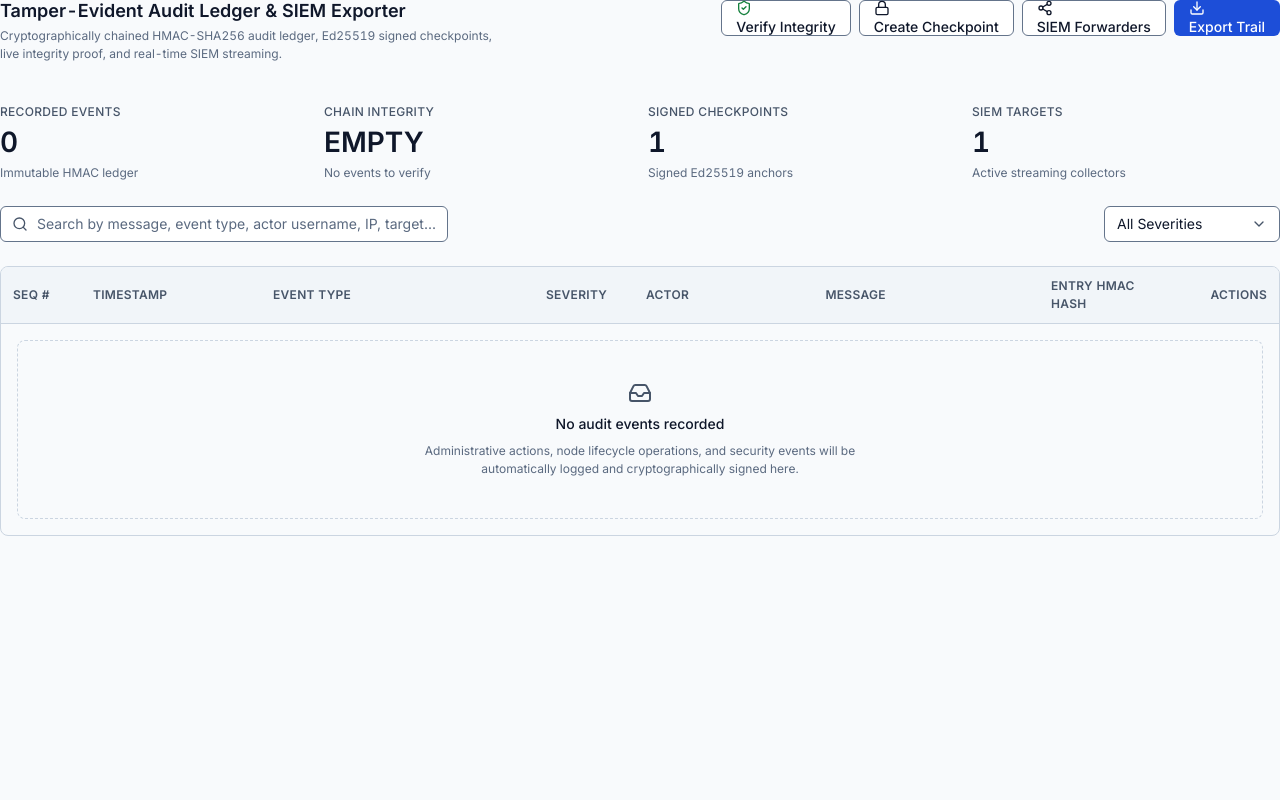
it: WP-408: AuditRoute (Tamper-Evident HMAC Ledger & SIEM Exporter UI) › reports an empty ledger without claiming a verification pass
Expected: the text "EMPTY" is shown, x1=324 y1=124 x2=424 y2=160
Click the button with test id "verify-chain-button" at (786, 18), box x1=721 y1=0 x2=851 y2=36
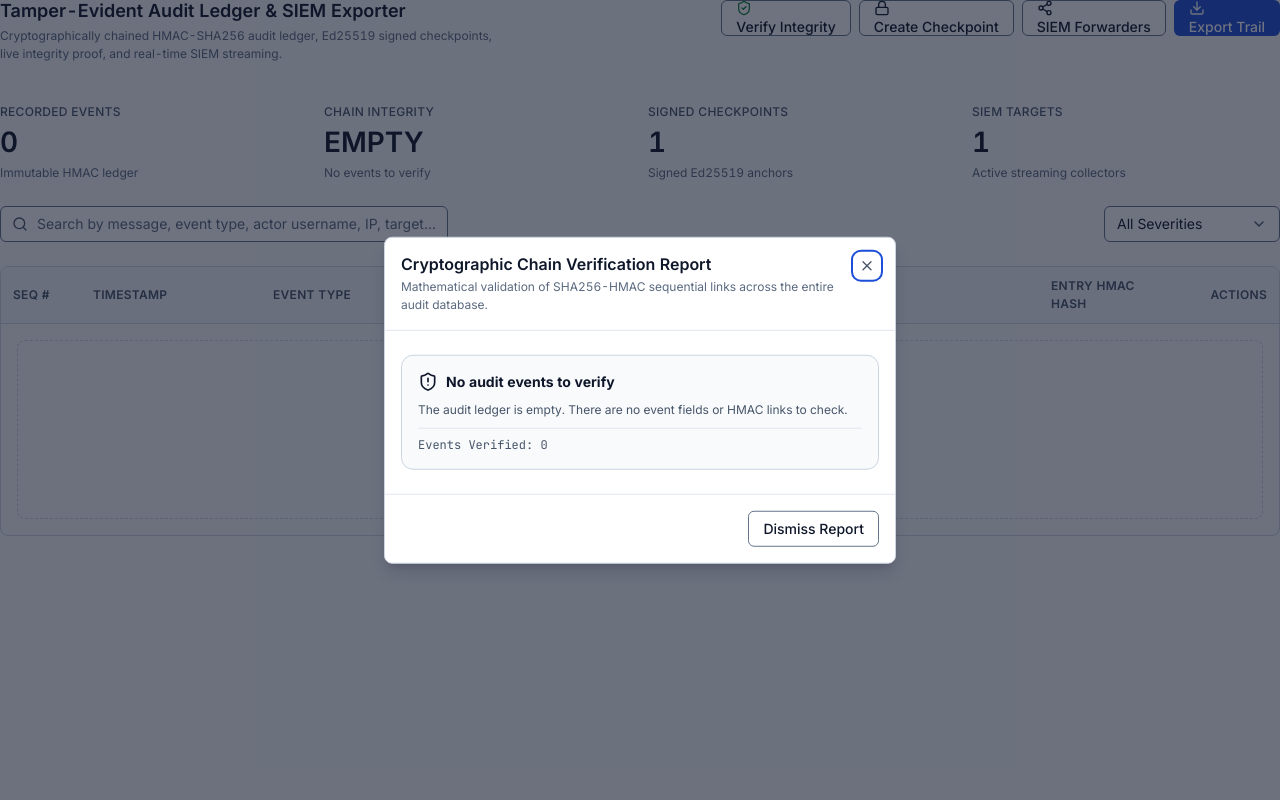
Result: the element with test id "verification-empty-card" shows "No audit events to verify" at x1=446 y1=373 x2=615 y2=390
